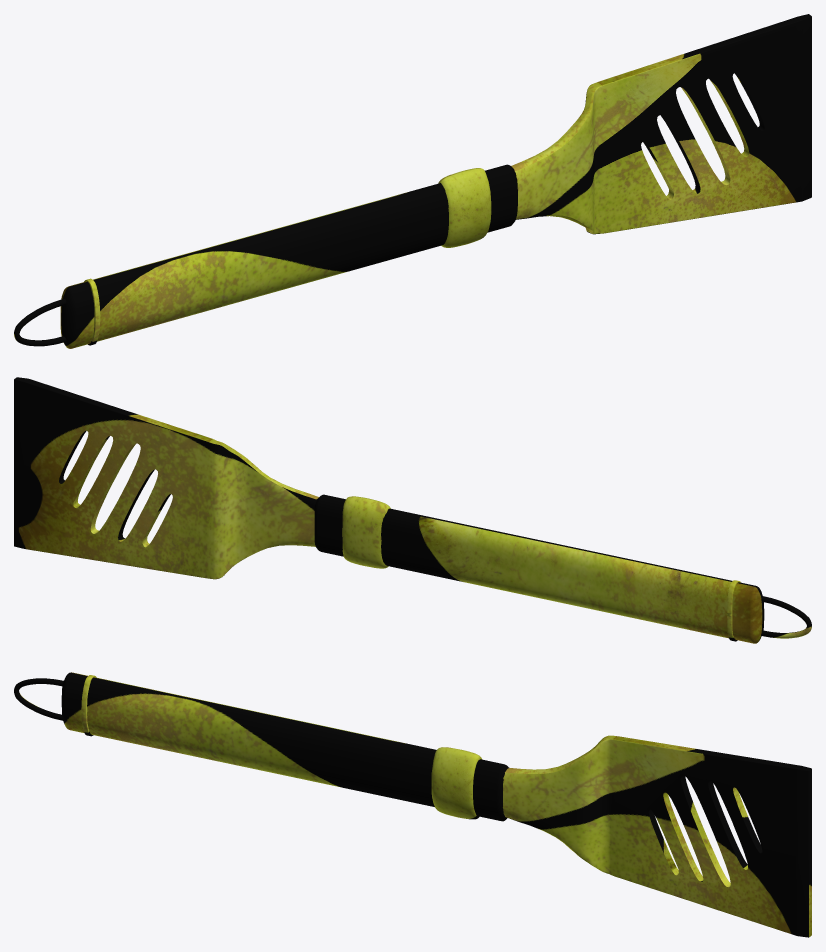
3 renders of one model, top to bottom at view 1: azimuth 30°, elevation 25°; view 2: azimuth 150°, elevation 25°; view 3: azimuth 330°, elevation 25°, orthographic. The views are drawn at different scales.
Bounding box in the file's own units: 1 × 0.2092 × 0.0835.
